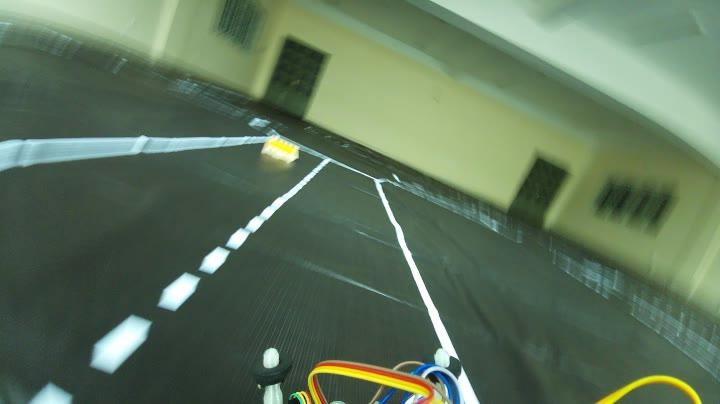roadblock: (258, 128, 304, 168)
